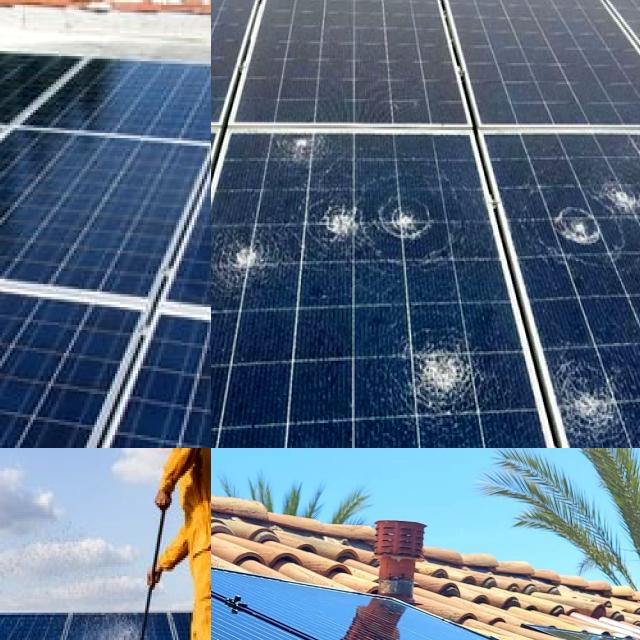crack: (0, 135, 201, 316), (12, 47, 211, 180), (378, 615, 498, 640), (211, 606, 297, 640), (211, 596, 275, 640), (211, 569, 240, 624)
hotspot: (386, 304, 487, 419), (543, 335, 640, 448), (526, 191, 614, 261), (306, 181, 387, 244), (435, 0, 561, 40), (211, 226, 284, 295), (377, 188, 448, 254), (276, 126, 341, 174), (601, 172, 640, 217)
